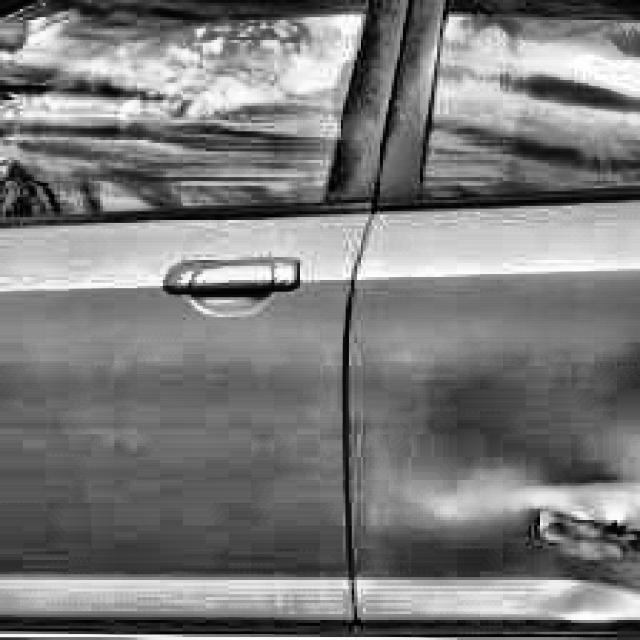door_dent: (395, 395, 640, 569)
